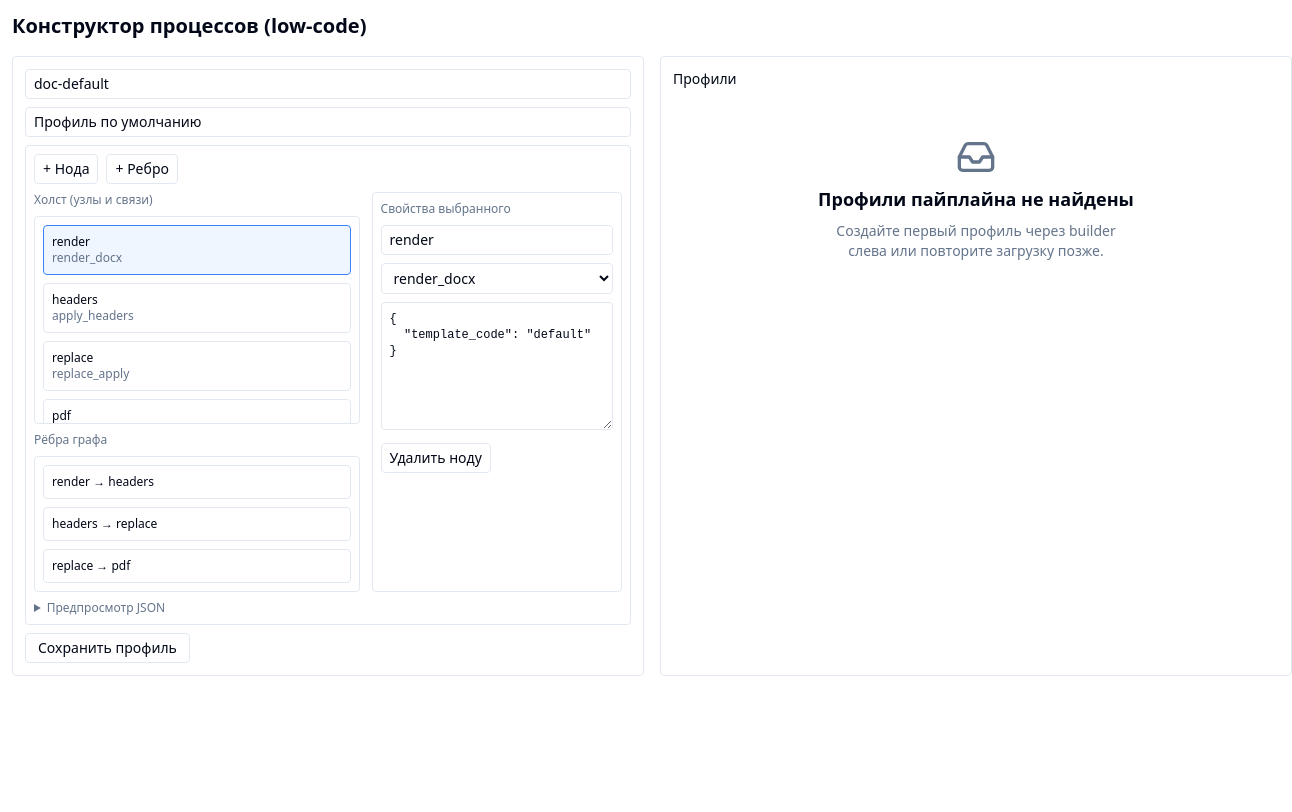
PipelineBuilderPage › saves profile and reloads list
The width and height of the screenshot is (1292, 812).
Expected: the heading "Профили пайплайна не найдены" is shown, [818,185,1134,213]
Click the button "Сохранить профиль". click: (107, 648)
box: [25,633,190,663]
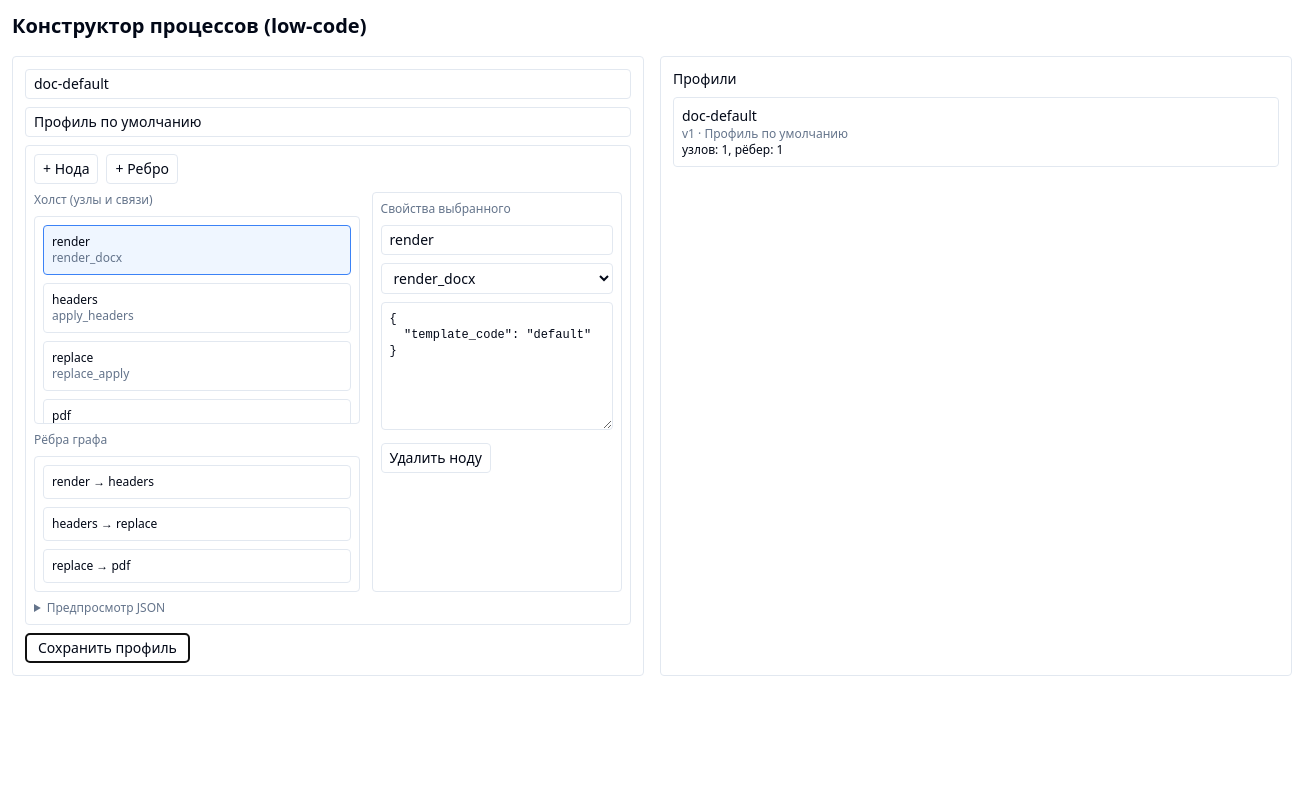
Expected: the text "doc-default" is shown, [682,106,757,125]
